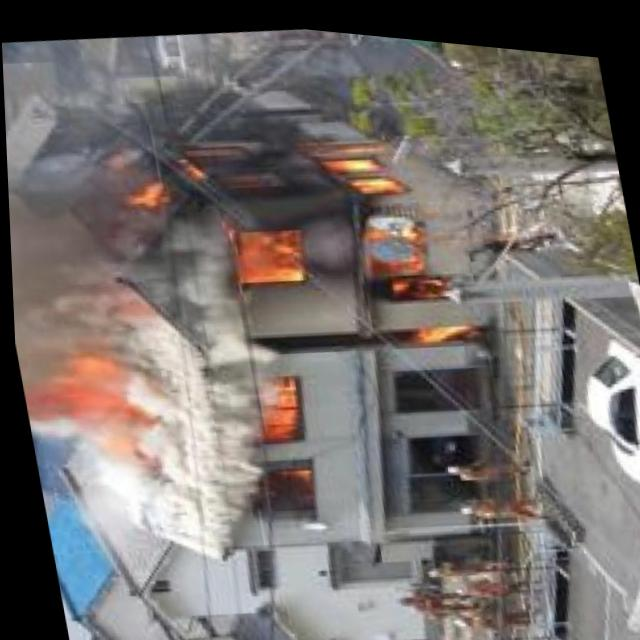Fire: (102, 93, 483, 395), (20, 340, 164, 490), (241, 369, 320, 511)
